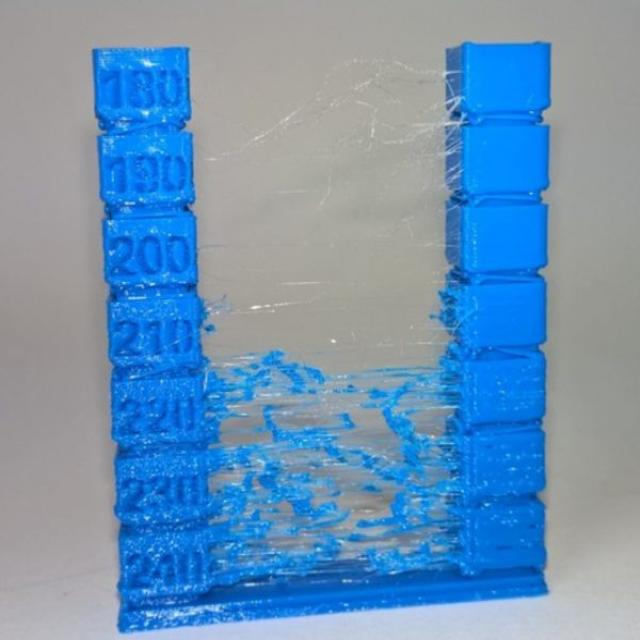Stringing: (203, 344, 467, 581), (310, 51, 460, 180)
